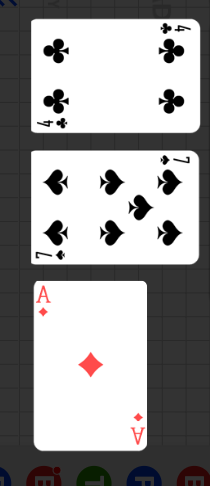4C: (158, 23, 192, 37)
AD: (127, 410, 144, 446), (37, 285, 53, 320)
